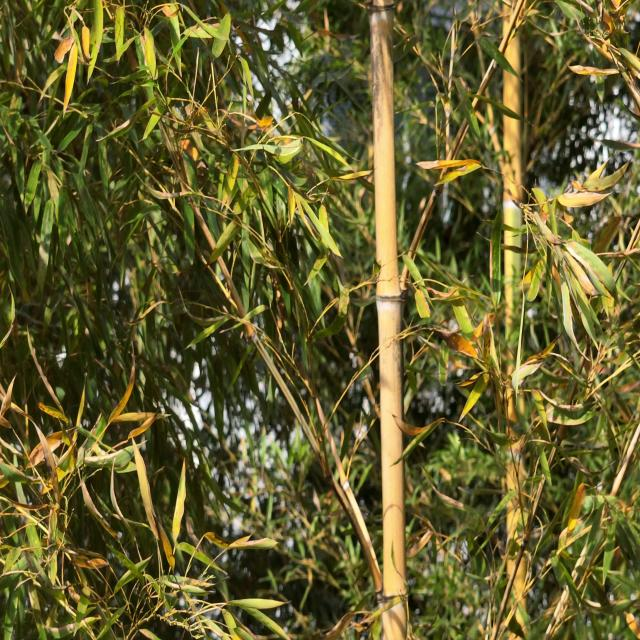Bamboo-shoots: (370, 0, 410, 640)
